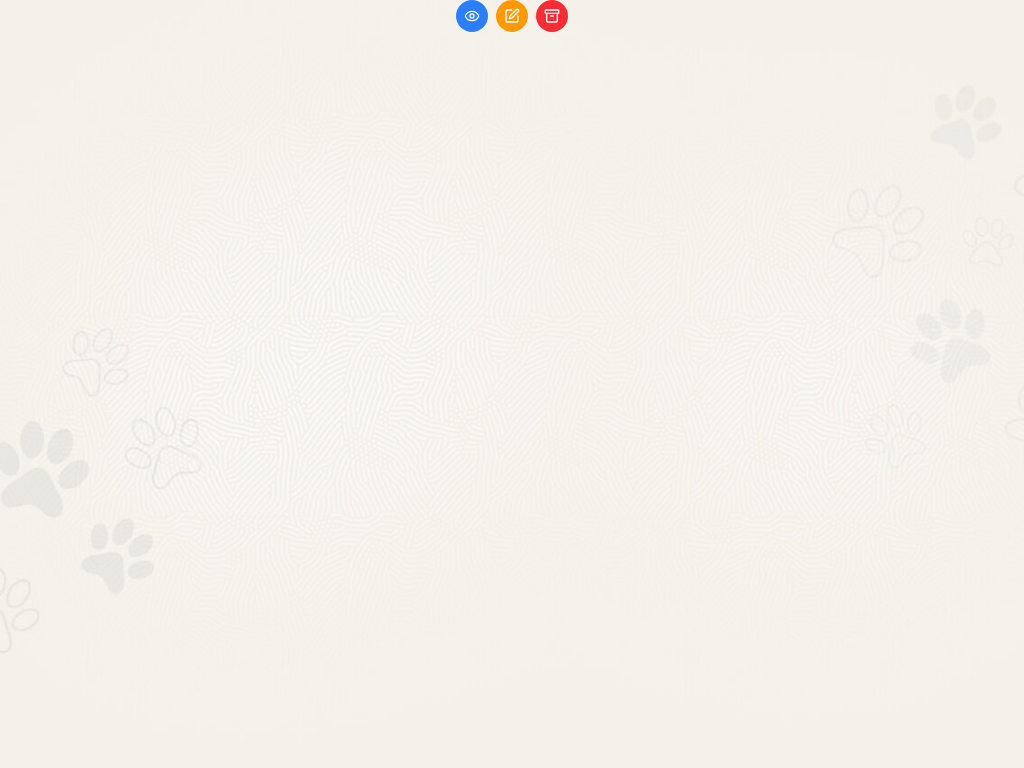
Test case: ProductActionButtons › opens modal when archive is clicked
Click the button with test id "archive-button" at (552, 16), box [536,0,568,32]
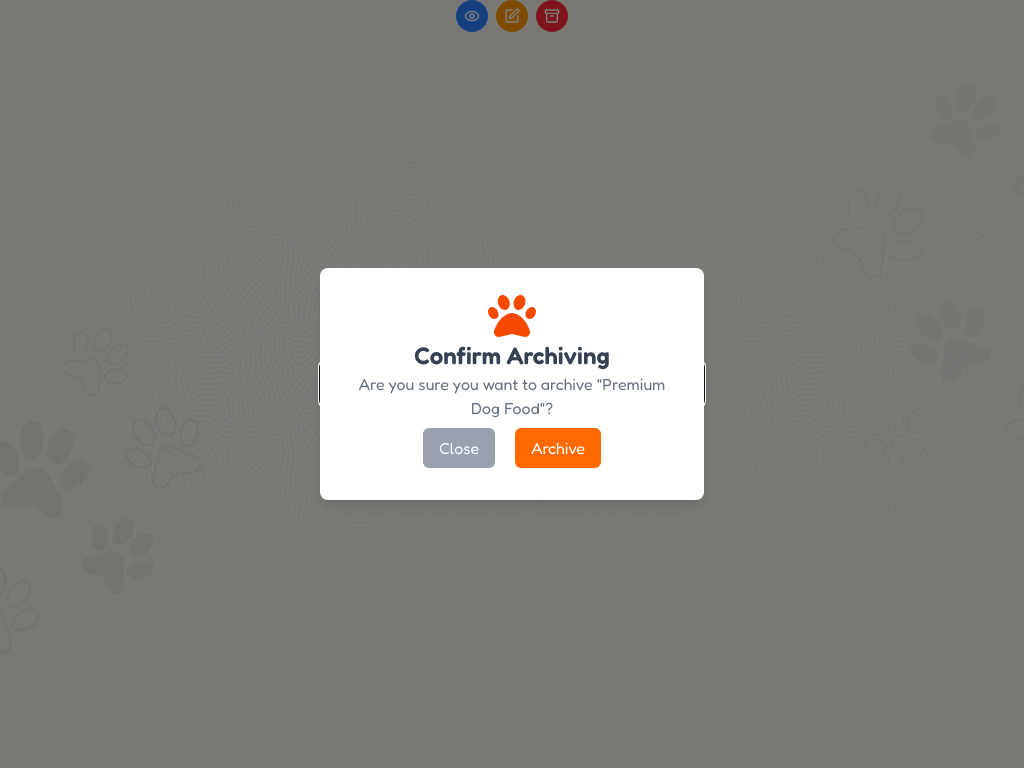
Expected: the heading "Confirm Archiving" is shown, [414,340,610,372]
Expected: the text "Are you sure you want to archive \"Premium Dog Food\"?" is shown, [344,372,680,420]
